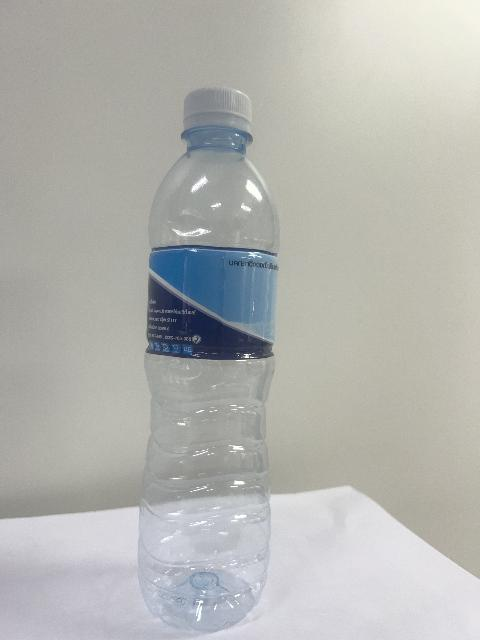bottle: (138, 88, 277, 630)
